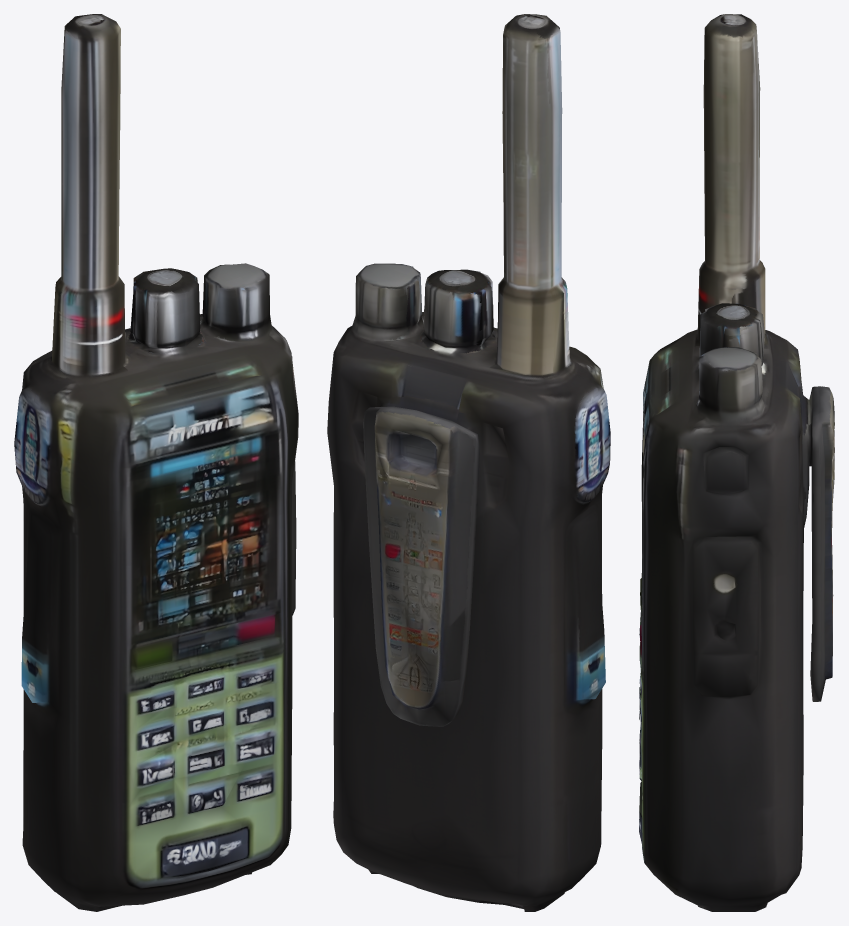
The model's file is sm_duijiangji.fbx.
The picture shows the model from 3 angles, left to right: view 1: azimuth 30°, elevation 25°; view 2: azimuth 150°, elevation 25°; view 3: azimuth 270°, elevation 25°; orthographic projection. The views are drawn at different scales.
Visible parts, largest first — view 1: mesh_node; view 2: mesh_node; view 3: mesh_node.
Boxes of the visible parts, x1,y1,x2,y2 form: mesh_node: (14, 14, 298, 911); mesh_node: (327, 14, 610, 911); mesh_node: (639, 14, 834, 911).
Bounding box in the file's own units: 0.5943 × 1.97 × 0.4253.
